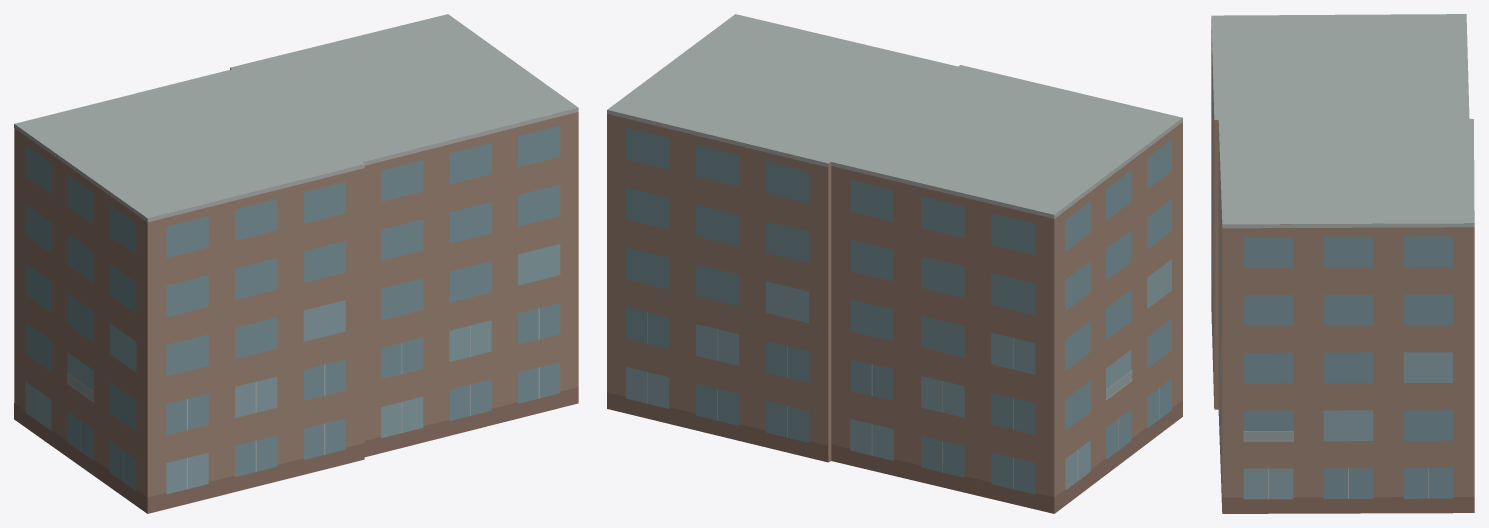
Rendered from survey-upis-32923430.glb.
3 renders of one model, left to right at view 1: azimuth 30°, elevation 25°; view 2: azimuth 150°, elevation 25°; view 3: azimuth 270°, elevation 25°, orthographic. The views are drawn at different scales.
Visible parts, largest first — view 1: survey-upis-32923430.tmp; view 2: survey-upis-32923430.tmp; view 3: survey-upis-32923430.tmp.
Boxes of the visible parts, left/top/right/bottom form: survey-upis-32923430.tmp: left=14, top=14, right=578, bottom=513; survey-upis-32923430.tmp: left=607, top=14, right=1182, bottom=513; survey-upis-32923430.tmp: left=1211, top=14, right=1474, bottom=513.
Bounding box in the file's own units: 27.92 × 17.9 × 14.76.
